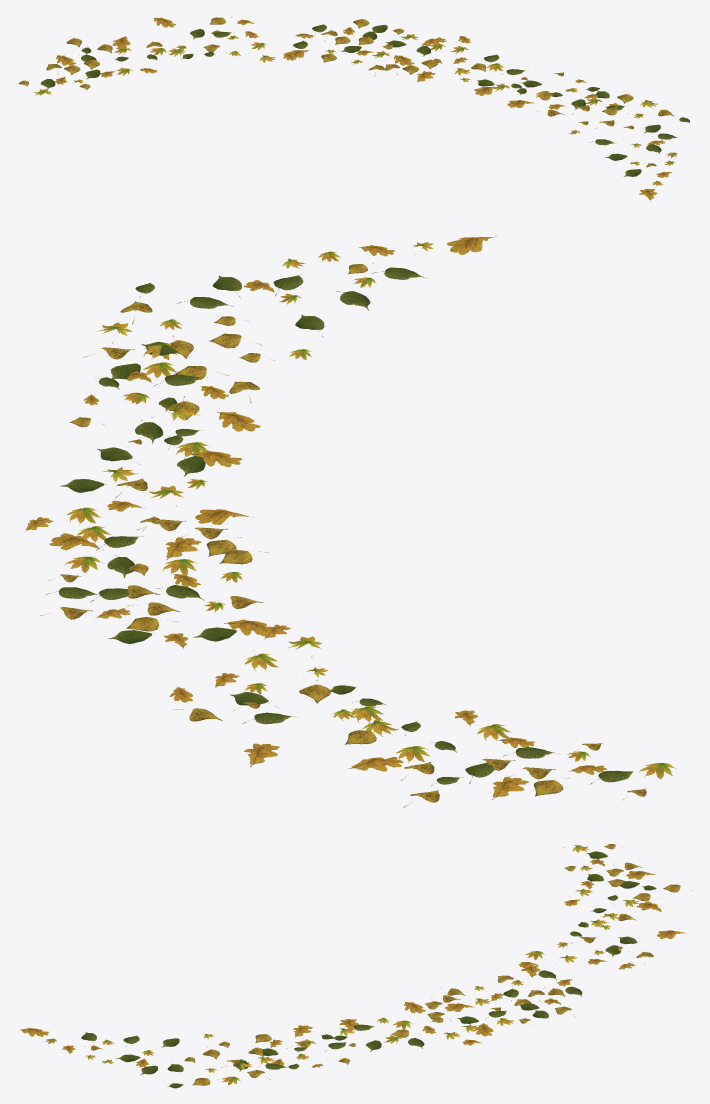
The model's file is Fallen_Leaves_04.fbx.
3 views of the same model, one above another, from view 1: azimuth 30°, elevation 25°; view 2: azimuth 150°, elevation 25°; view 3: azimuth 270°, elevation 25° (orthographic). The views are drawn at different scales.
Parts seen in each view (by area): view 1: Fallen_Leaves_04_LOD0; view 2: Fallen_Leaves_04_LOD0; view 3: Fallen_Leaves_04_LOD0.
Boxes of the visible parts, bbox=[...] form: Fallen_Leaves_04_LOD0: bbox=[18, 17, 689, 200]; Fallen_Leaves_04_LOD0: bbox=[25, 236, 675, 807]; Fallen_Leaves_04_LOD0: bbox=[20, 844, 691, 1088].
Size of what is drawn, in the model's own units: 283 by 1.86 by 331.
